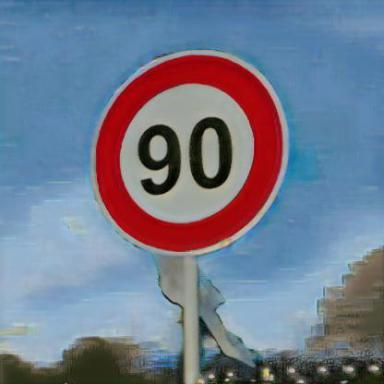Speed_limit_90: (92, 56, 285, 252)
